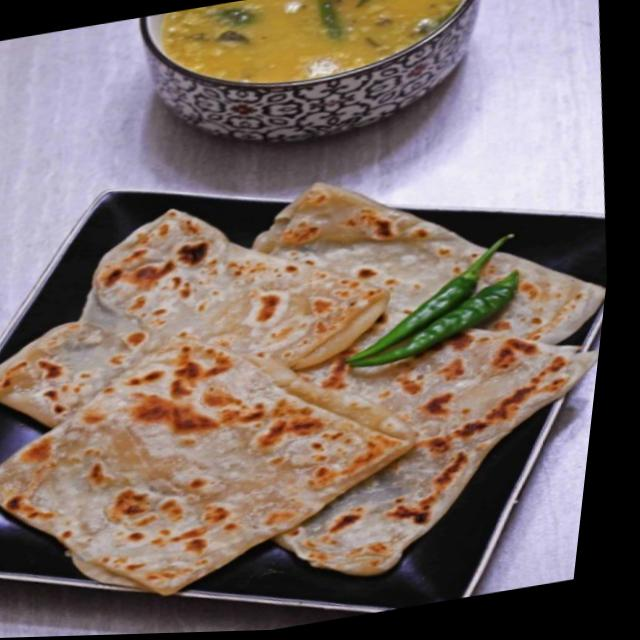CHAPATHI: (0, 181, 606, 596)
CURRY: (151, 0, 462, 82)
